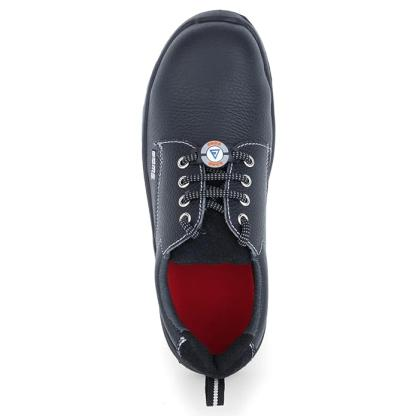bota: (136, 5, 279, 412)
